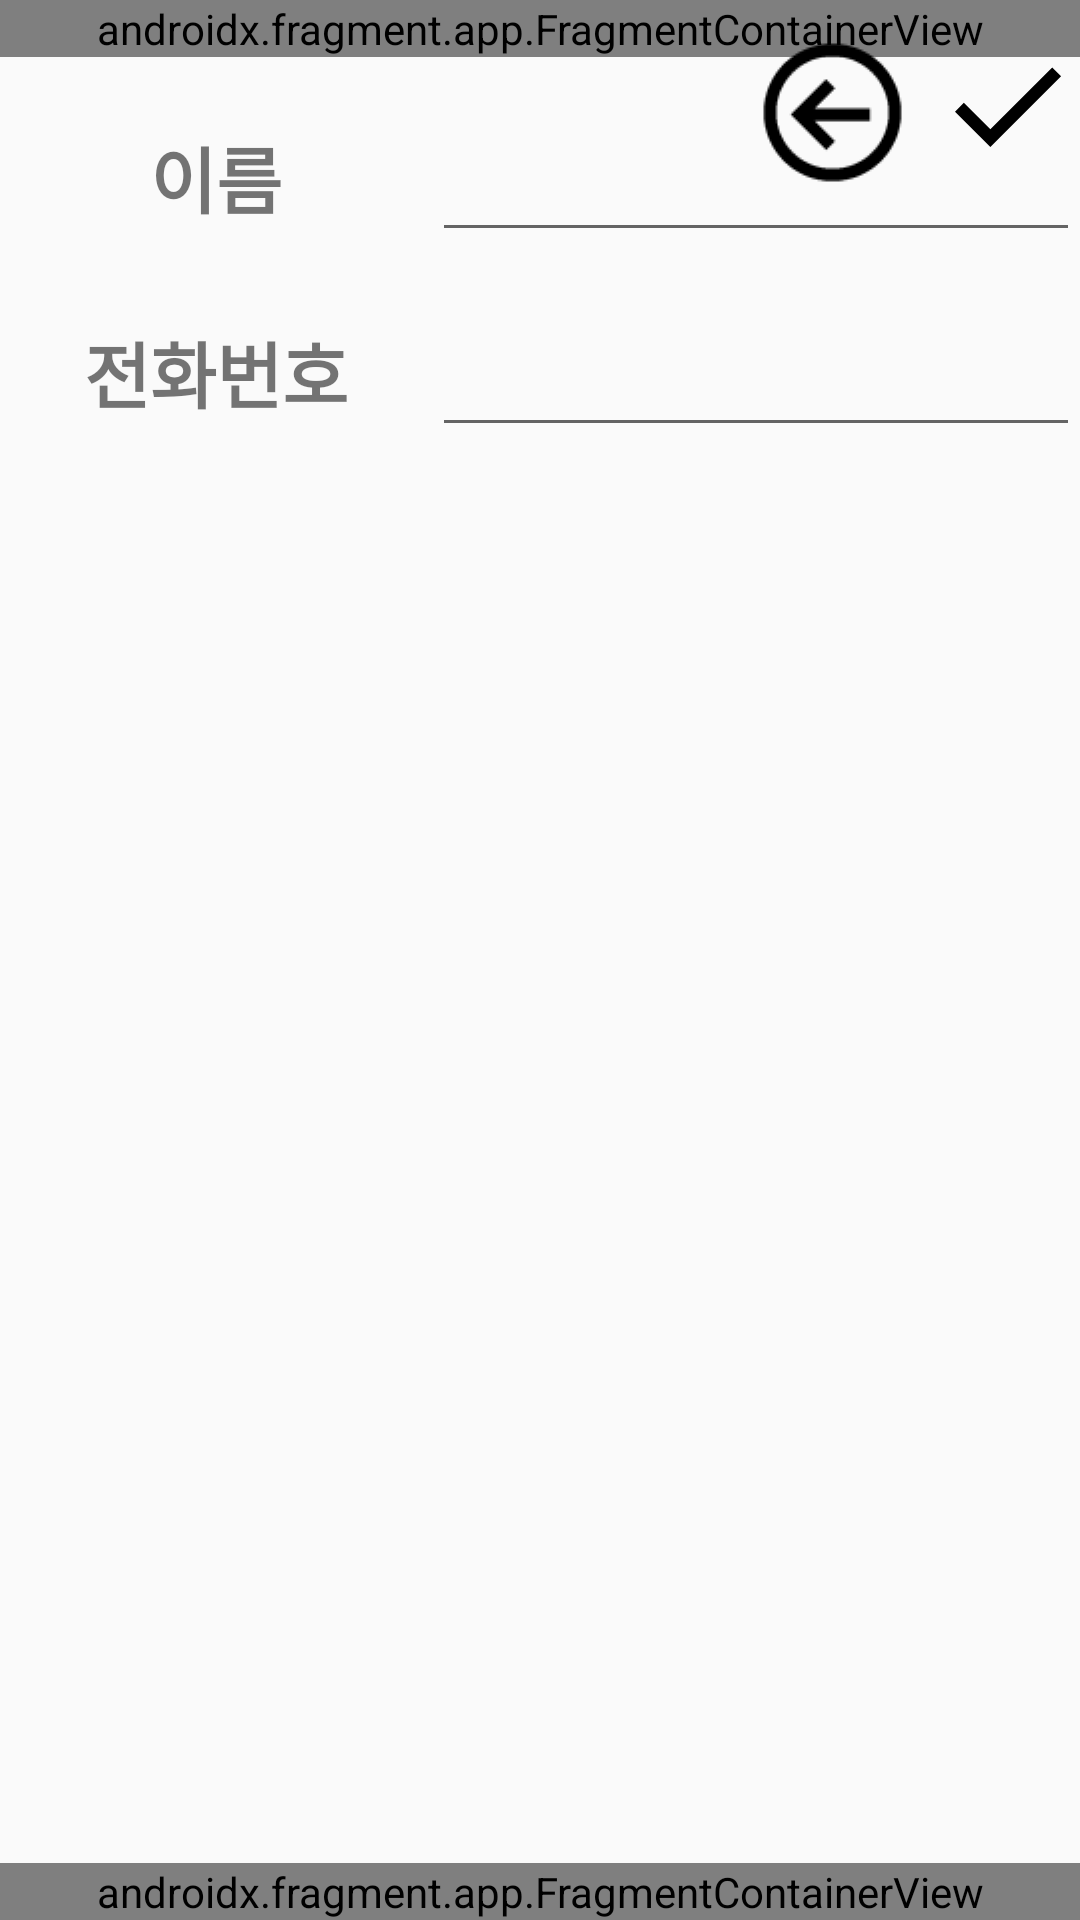

Icon bounding boxes for this 1080 × 1920 phone screenshot, format [x1, y1, x2, y2]:
check: [930, 30, 1080, 147]
